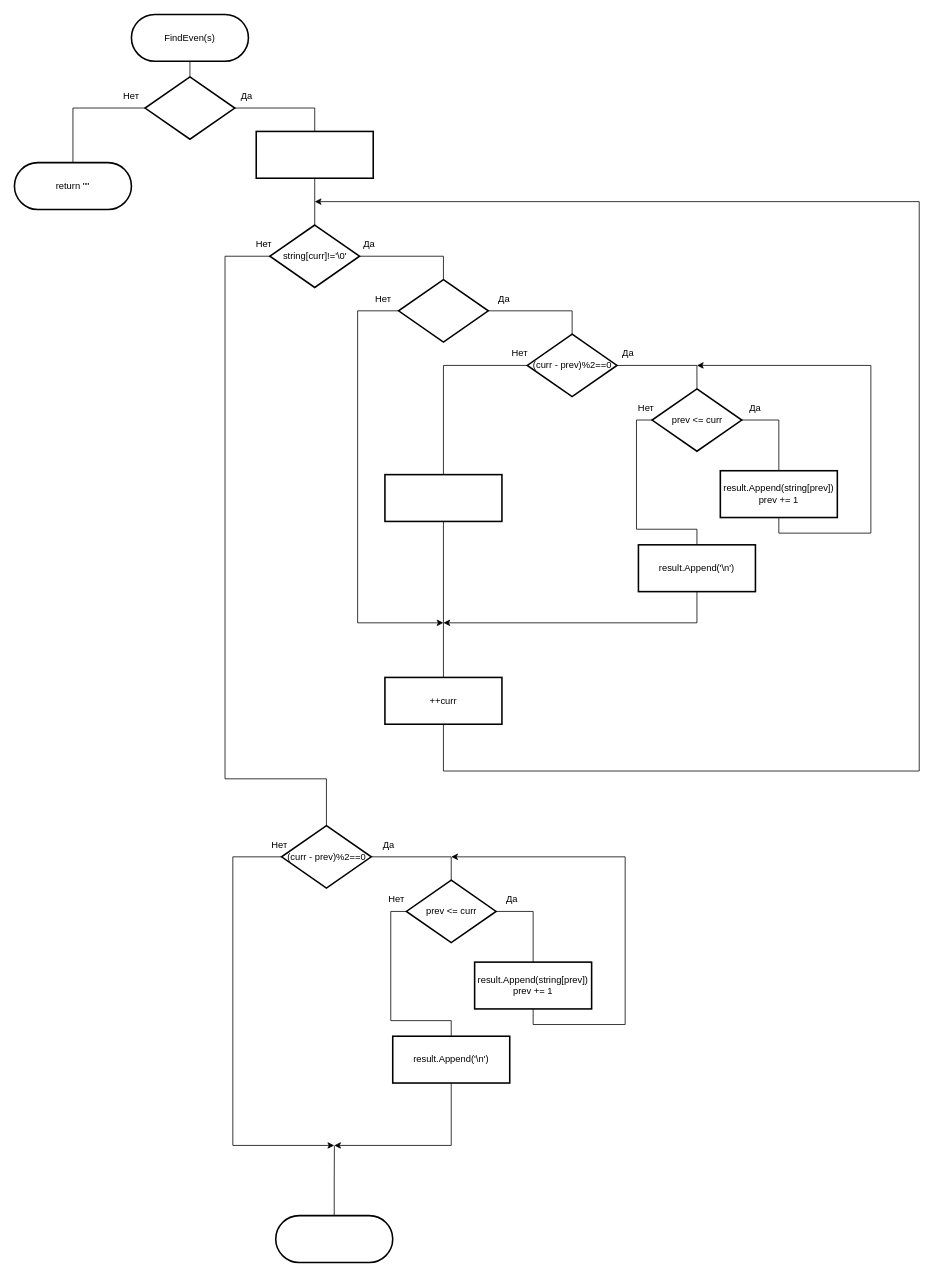
Image size: 939x1276. Some labels were removed from this diagram. Each missing label, with the centre of its shape:
prev = curr + 1: point (443, 497)
result = "" prev = 0 curr = 0: point (314, 154)
return result: point (334, 1238)
string[curr] == ' ': point (443, 310)
strlen(s) == 0: point (189, 108)
